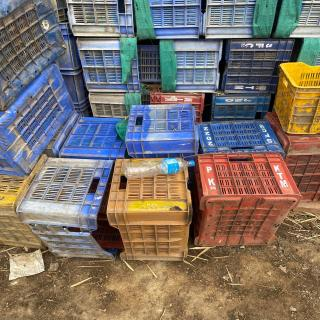Plastic-bottle: (122, 157, 200, 183)
